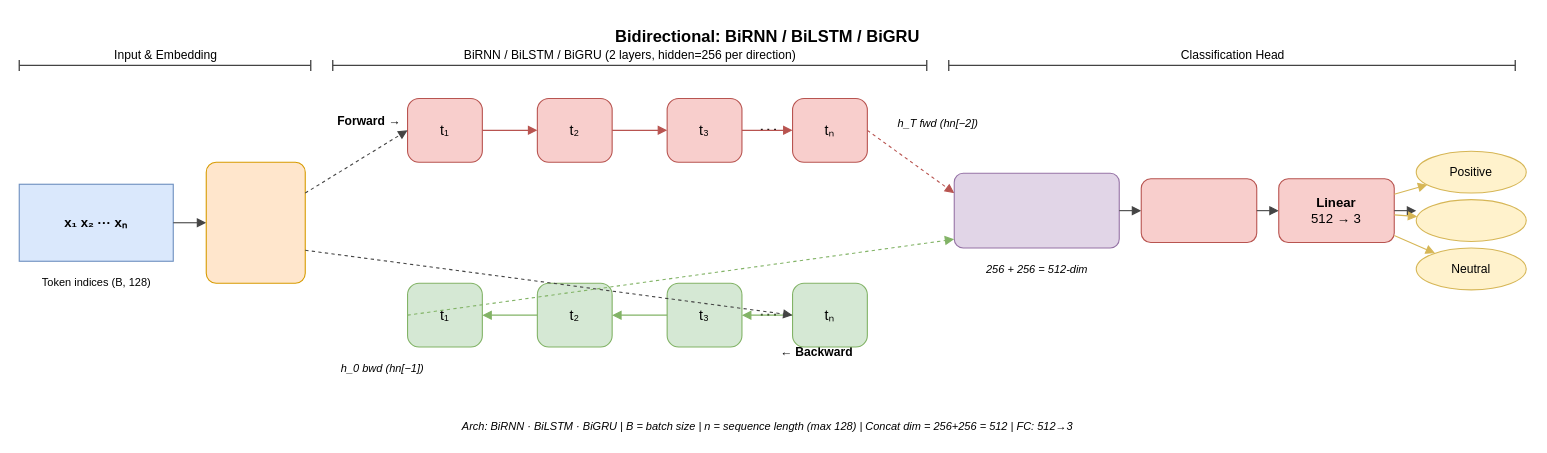
This 1547x453 diagram has some shape labels left out. The shapes that lost their labels are listed below. From the top down, each one's centre as x and y in pixels, then its label:
At [255,222]: "Embedding fastText 300-dim".
At [1036,210]: "cat(h_fwd, h_bwd) (B, 512)".
At [1198,210]: "Dropout p = 0.2".
At [1470,220]: "Negative".
